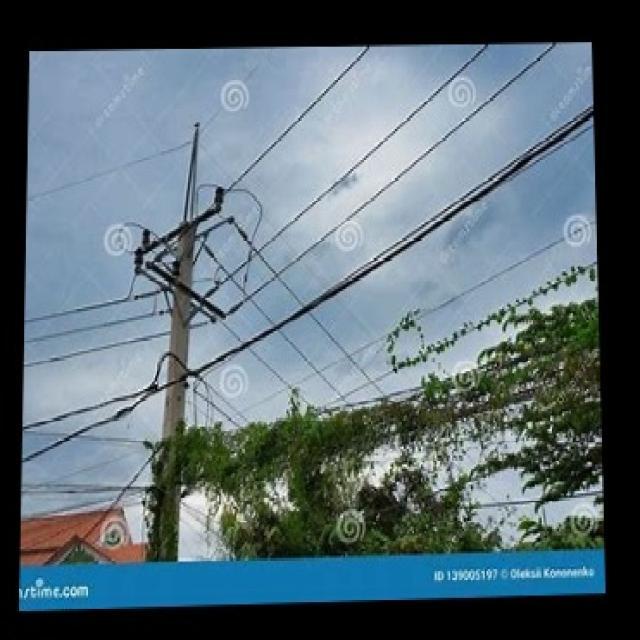critical vegetation: (144, 382, 603, 510)
